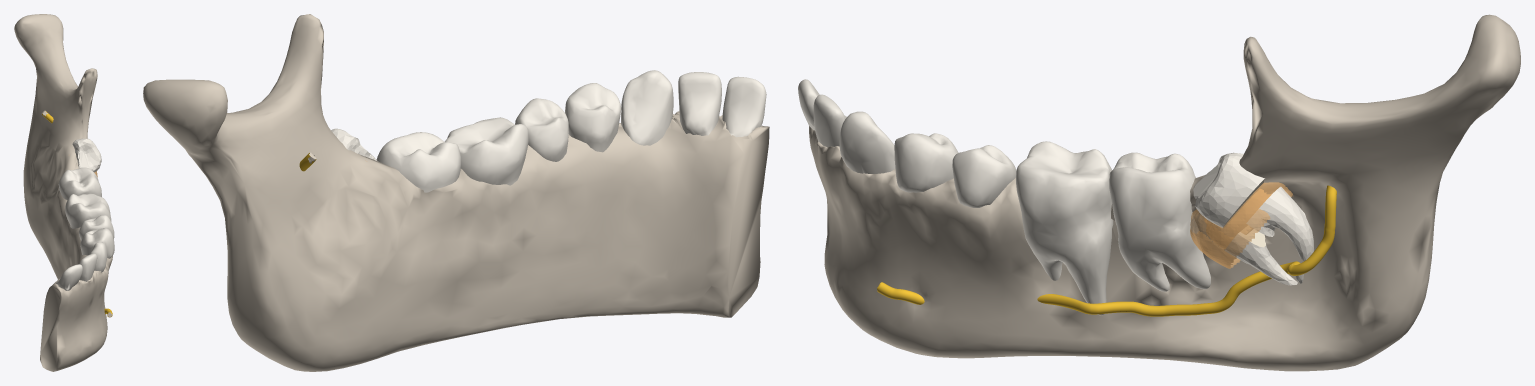
The model's file is removal-during.glb.
3 views of the same model, side by side, from view 1: azimuth 30°, elevation 25°; view 2: azimuth 150°, elevation 25°; view 3: azimuth 270°, elevation 25° (orthographic). The views are drawn at different scales.
Parts seen in each view (by area): view 1: mandible left, teeth_2, wisdom tooth crown, nerve_2; view 2: mandible left, teeth_2; view 3: mandible left, teeth_2, nerve_2, removed bone, wisdom tooth crown, wisdom tooth distal root, wisdom tooth mesial root.
Part boxes in pixels (box(x1,y1,x2,y2)): mandible left: box(14, 14, 112, 371); teeth_2: box(55, 167, 114, 290); wisdom tooth crown: box(72, 138, 101, 172); nerve_2: box(42, 111, 112, 316); mandible left: box(143, 14, 769, 371); teeth_2: box(376, 70, 766, 192); mandible left: box(809, 14, 1520, 371); teeth_2: box(798, 79, 1210, 315); nerve_2: box(877, 185, 1336, 316); removed bone: box(1190, 182, 1292, 268); wisdom tooth crown: box(1193, 152, 1264, 227); wisdom tooth distal root: box(1246, 186, 1313, 261); wisdom tooth mesial root: box(1225, 234, 1303, 285).
Size of the model in its own units: 0.0913 by 0.1057 by 0.1665.
